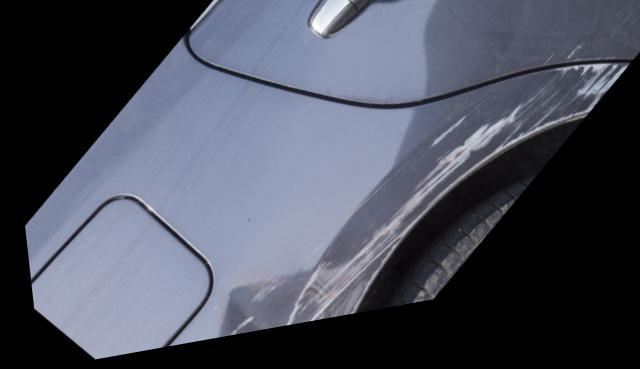dent: (210, 289, 312, 344)
scratch: (296, 86, 623, 330)
